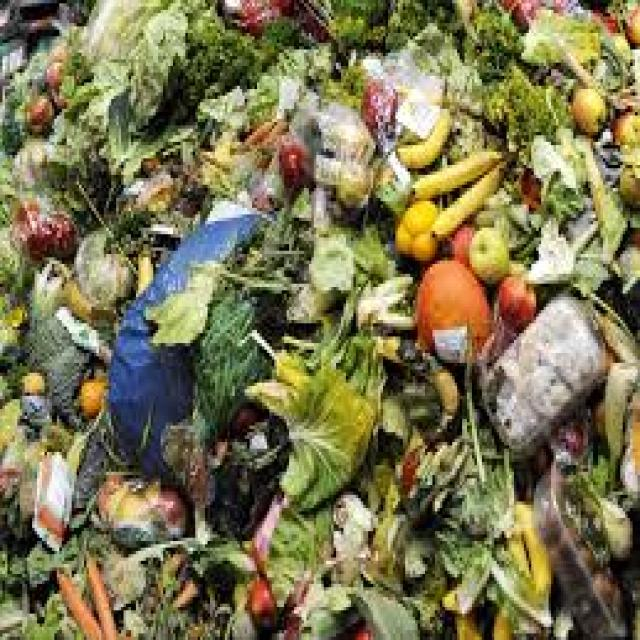food_waste: (33, 44, 604, 588)
